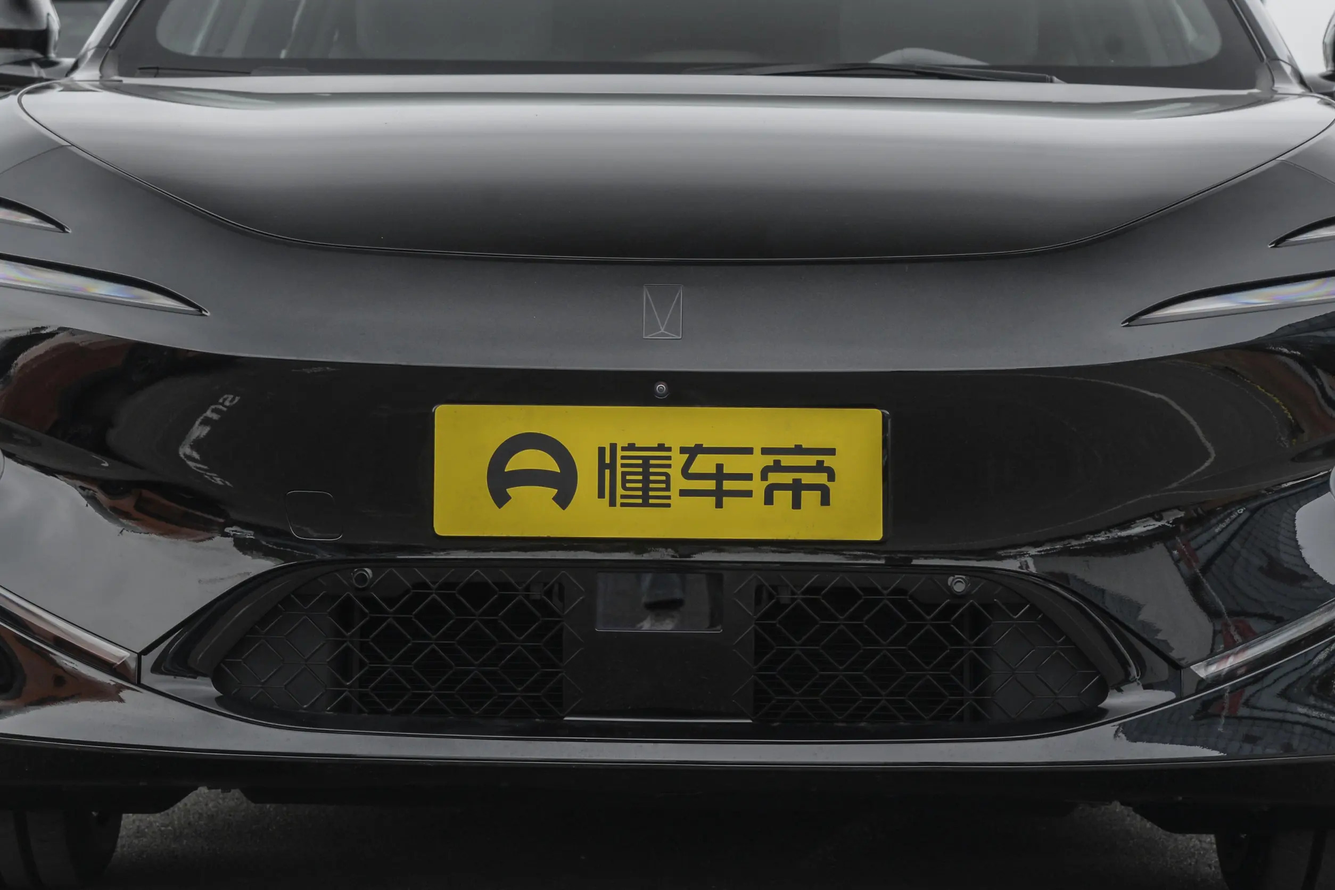AVATR: (643, 284, 682, 339)
